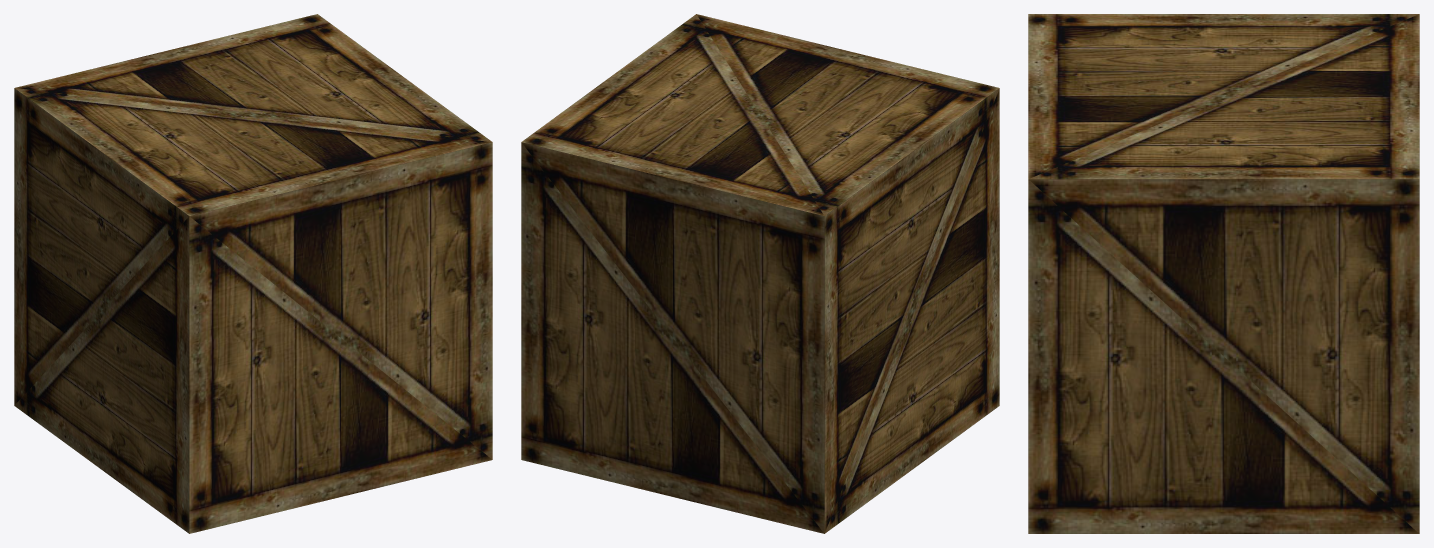
The picture shows the model from 3 angles, left to right: view 1: azimuth 30°, elevation 25°; view 2: azimuth 150°, elevation 25°; view 3: azimuth 270°, elevation 25°; orthographic projection. The views are drawn at different scales.
Parts seen in each view (by area): view 1: Mesh_skin; view 2: Mesh_skin; view 3: Mesh_skin.
Boxes of the visible parts, bbox=[...] form: Mesh_skin: bbox=[14, 14, 492, 533]; Mesh_skin: bbox=[521, 14, 999, 533]; Mesh_skin: bbox=[1028, 14, 1419, 533].
Size of the model in its own units: 47.98 by 48.03 by 47.98.
2 materials, 2 textured.
